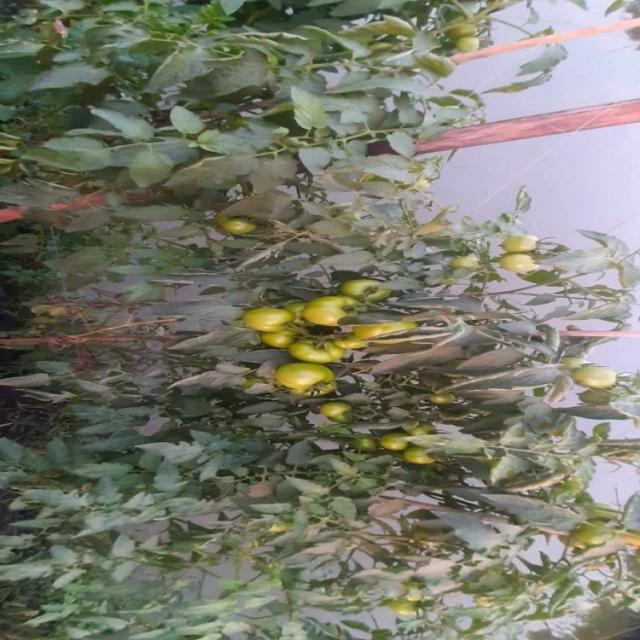tomato: (273, 358, 344, 400), (305, 292, 356, 333), (561, 357, 623, 388), (243, 300, 290, 340), (447, 26, 494, 63), (334, 423, 376, 455), (266, 323, 300, 360), (489, 232, 539, 256), (341, 278, 387, 304), (399, 578, 423, 622), (319, 394, 354, 421), (341, 321, 372, 348), (404, 449, 436, 473), (218, 217, 255, 237), (450, 249, 486, 265), (500, 260, 531, 275), (382, 432, 406, 450)
